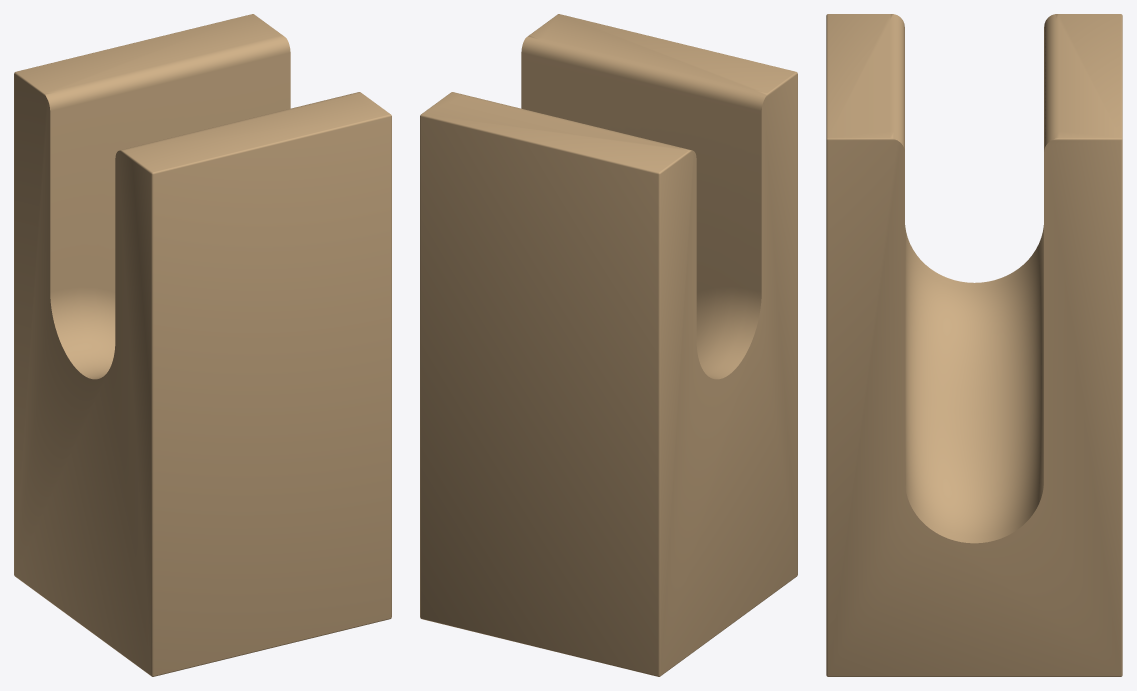
The model's file is blk_slope_steep_l0.glb.
3 renders of one model, left to right at view 1: azimuth 30°, elevation 25°; view 2: azimuth 150°, elevation 25°; view 3: azimuth 270°, elevation 25°, orthographic. The views are drawn at different scales.
Parts seen in each view (by area): view 1: blk_slope_steep_l0_lod0; view 2: blk_slope_steep_l0_lod0; view 3: blk_slope_steep_l0_lod0.
Boxes of the visible parts, x1,y1,x2,y2 form: blk_slope_steep_l0_lod0: [14, 14, 391, 676]; blk_slope_steep_l0_lod0: [420, 14, 797, 676]; blk_slope_steep_l0_lod0: [826, 14, 1122, 676].
Size of what is drawn, in the model's own units: 0.0596 by 0.1196 by 0.0596.
